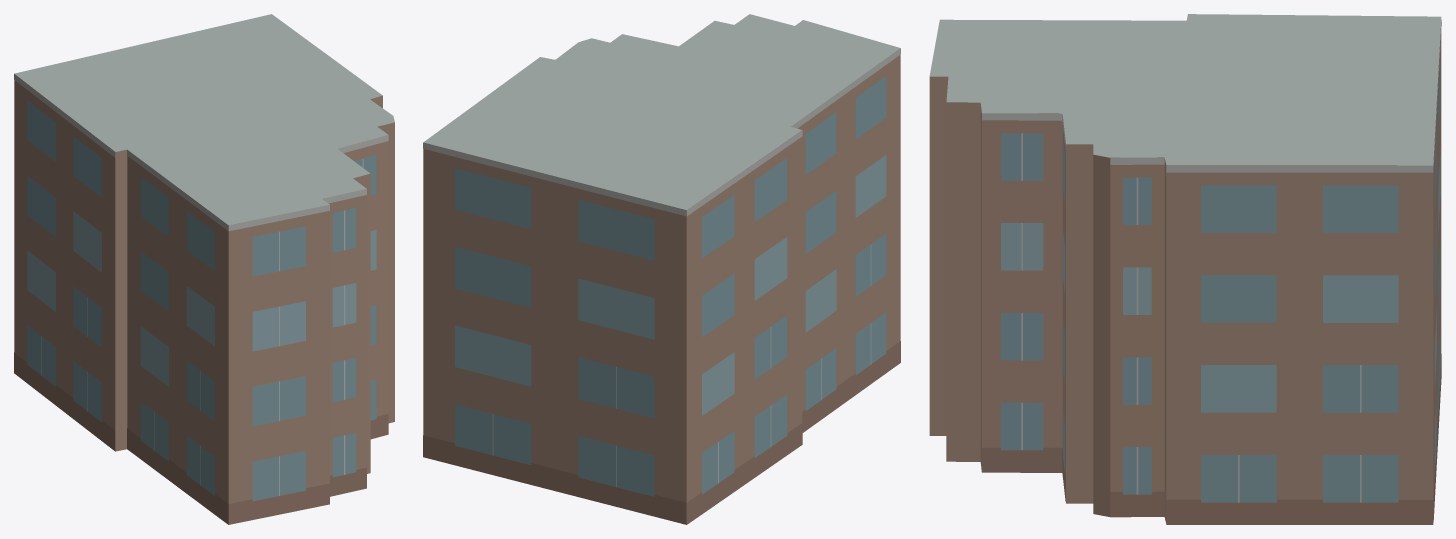
Rendered from survey-upis-32761590.glb.
3 renders of one model, left to right at view 1: azimuth 30°, elevation 25°; view 2: azimuth 150°, elevation 25°; view 3: azimuth 270°, elevation 25°, orthographic. The views are drawn at different scales.
Parts seen in each view (by area): view 1: survey-upis-32761590.tmp; view 2: survey-upis-32761590.tmp; view 3: survey-upis-32761590.tmp.
Boxes of the visible parts, x1,y1,x2,y2 form: survey-upis-32761590.tmp: [14, 14, 394, 524]; survey-upis-32761590.tmp: [423, 14, 900, 524]; survey-upis-32761590.tmp: [929, 14, 1441, 524].
Bounding box in the file's own units: 11.02 × 12.18 × 15.74.
